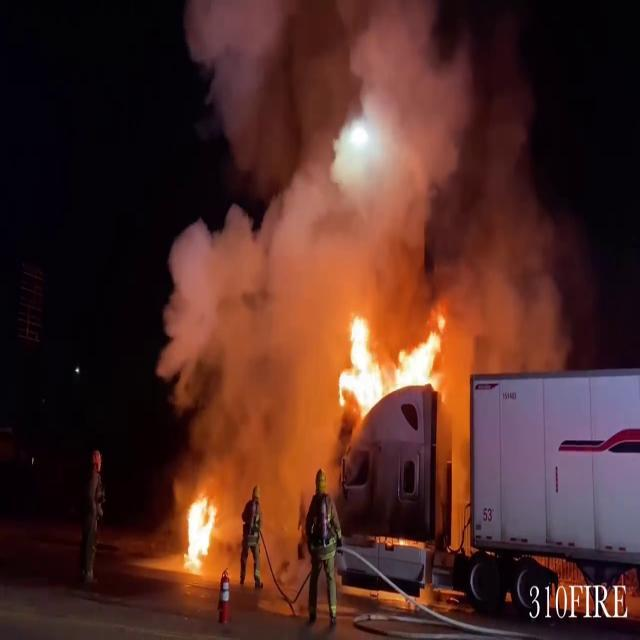Fire: (341, 310, 444, 428), (181, 484, 218, 575)
Smoke: (150, 0, 572, 398), (120, 355, 356, 608)
